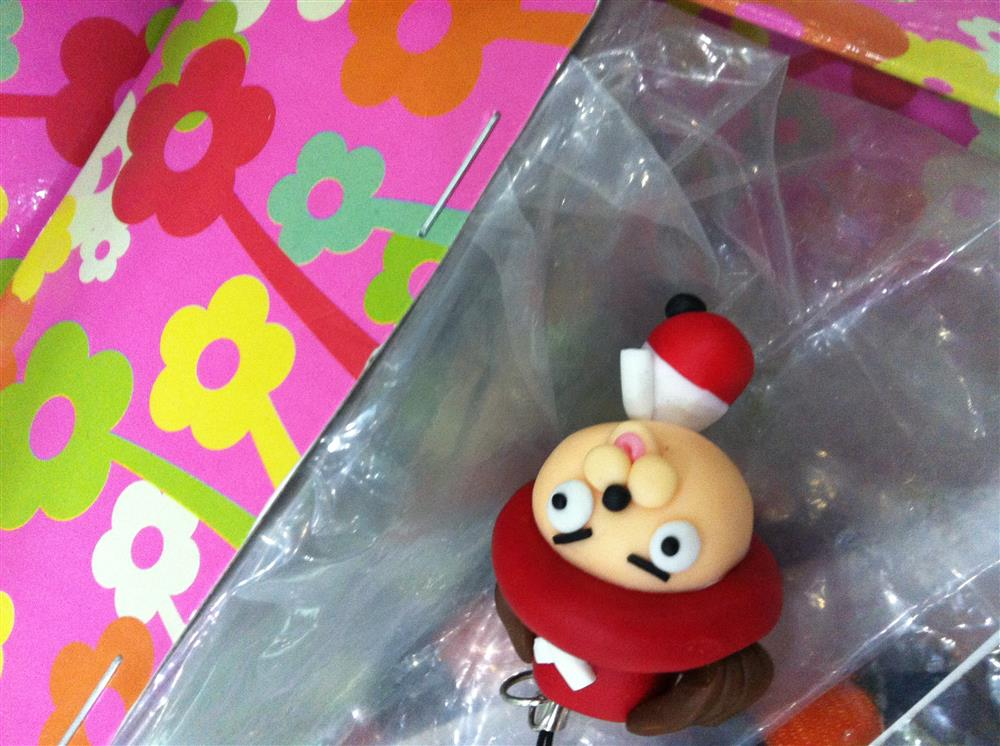Chopper: (489, 287, 785, 736)
